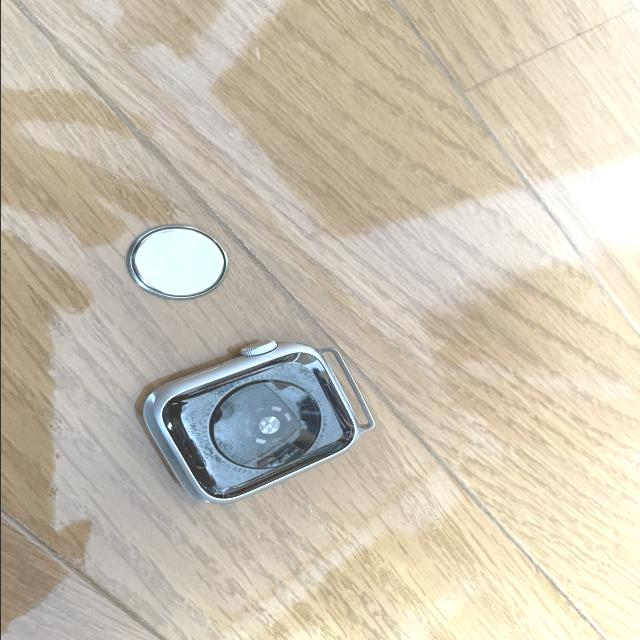COIN: (125, 226, 228, 300)
